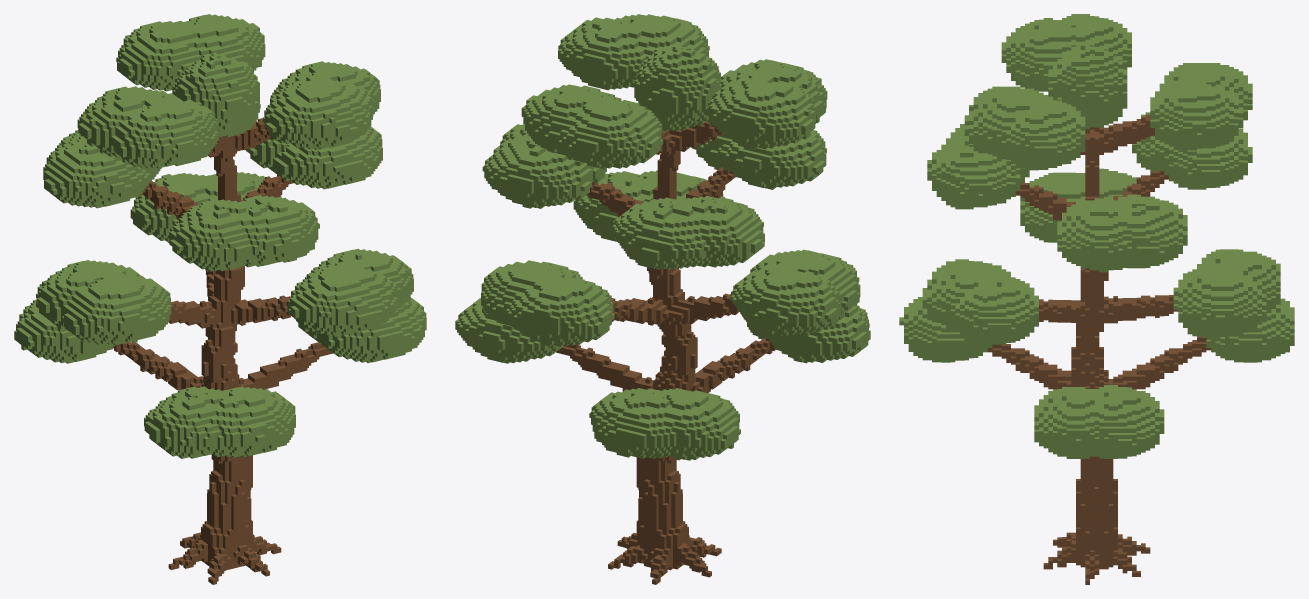
Rendered from visual-far.glb.
3 renders of one model, left to right at view 1: azimuth 30°, elevation 25°; view 2: azimuth 150°, elevation 25°; view 3: azimuth 270°, elevation 25°, orthographic.
Visible parts, largest first — view 1: 既有乔木色阶与高度族; view 2: 既有乔木色阶与高度族; view 3: 既有乔木色阶与高度族.
Boxes of the visible parts, <box> form: 既有乔木色阶与高度族: <box>14,14,426,584</box>; 既有乔木色阶与高度族: <box>455,14,870,584</box>; 既有乔木色阶与高度族: <box>899,14,1294,584</box>.
Bounding box in the file's own units: 18 × 24 × 17.
Materials: 3 (3 with a texture image).
